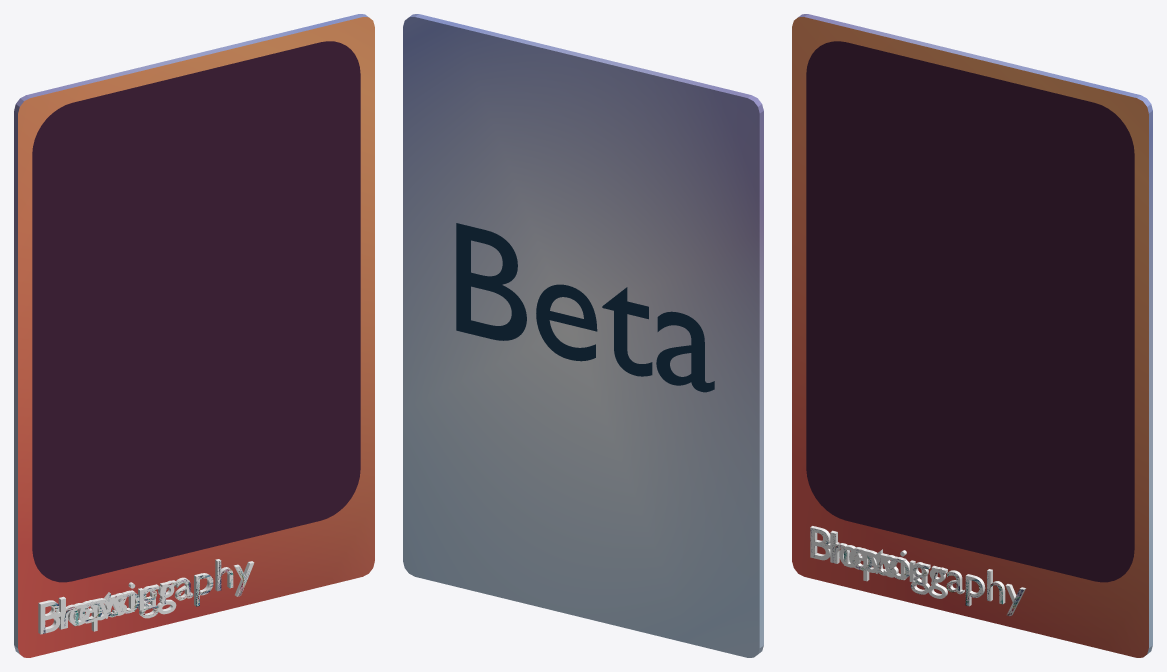
3 renders of one model, left to right at view 1: azimuth 30°, elevation 25°; view 2: azimuth 150°, elevation 25°; view 3: azimuth 330°, elevation 25°, orthographic.
Parts seen in each view (by area): view 1: card_content, card, photography, brewing, hops, text; view 2: card, logo; view 3: card_content, card, photography, brewing, hops, text.
Boxes of the visible parts, x1=… form: card_content: x1=32, y1=41, x2=360, y2=582; card: x1=14, y1=14, x2=374, y2=657; photography: x1=40, y1=559, x2=254, y2=633; brewing: x1=40, y1=580, x2=176, y2=633; hops: x1=38, y1=593, x2=126, y2=634; text: x1=43, y1=561, x2=248, y2=633; card: x1=403, y1=14, x2=763, y2=657; logo: x1=456, y1=223, x2=714, y2=392; card_content: x1=806, y1=41, x2=1134, y2=582; card: x1=792, y1=14, x2=1152, y2=657; photography: x1=811, y1=526, x2=1025, y2=615; brewing: x1=810, y1=526, x2=947, y2=598; hops: x1=810, y1=526, x2=898, y2=581; text: x1=810, y1=529, x2=1023, y2=616.
Bounding box in the file's own units: 2 × 3 × 0.1066.
2 materials, 2 textured.
